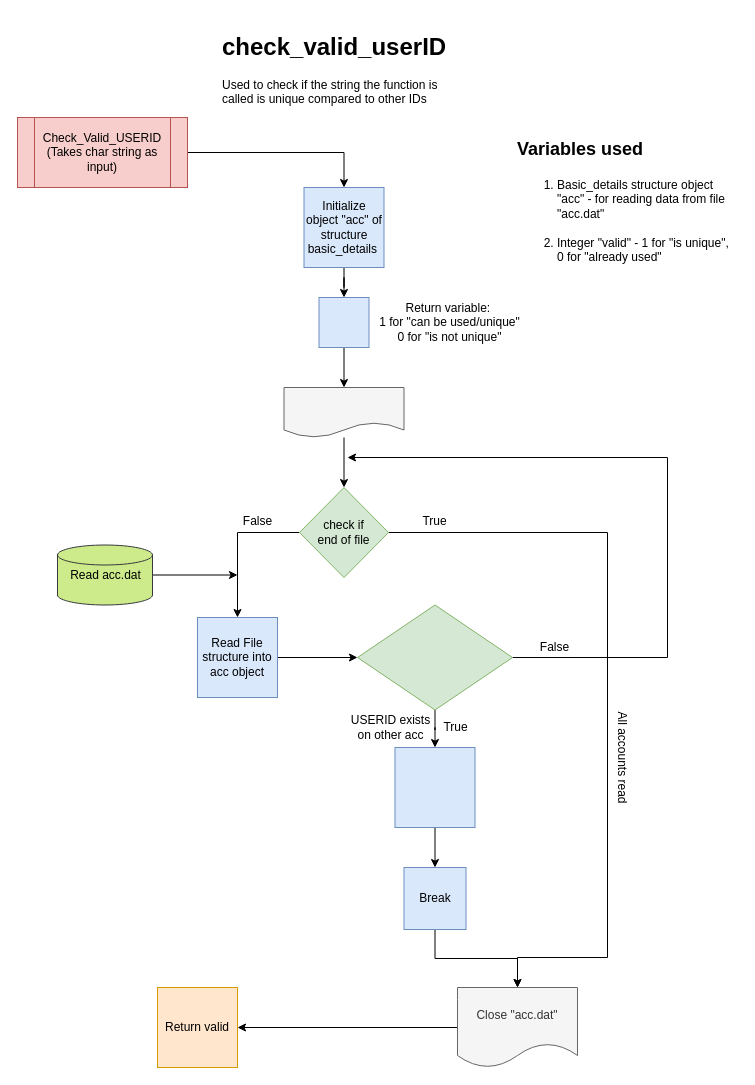
Image size: 755x1085. Some labels were removed from this diagram. The shapes that lost their labels are listed below. From the top down, each one's centre as x and y in pixels, then its label:
[343,322]: Set Valid to true
[343,412]: Open "acc.dat"
[434,657]: Check if input char matches with userID of acc
[434,787]: Set Valid to false
